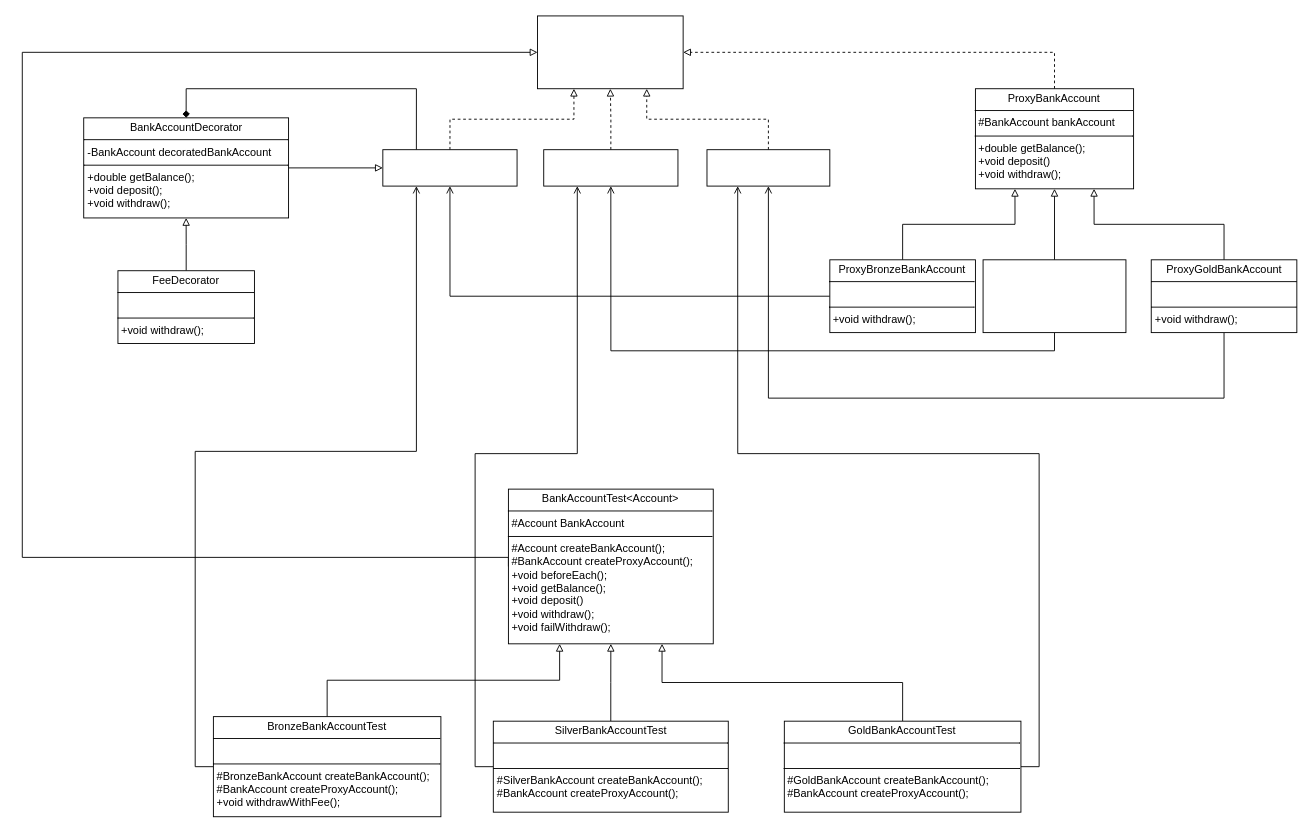
The diagram is 1313 pixels wide and 833 high, and some of its shapes have lost their labels. The box of each missing label's shape, as (x1, y1, x2, y2) in pixels:
BankAccount double getBalance(); void deposit(); void withdraw();: (537, 15, 683, 89)
BronzeBankAccount: (382, 149, 517, 186)
GoldBankAccount: (706, 149, 830, 186)
ProxySilverBankAccount +void withedraw();: (982, 259, 1126, 333)
SilverBankAccount: (543, 149, 678, 186)
